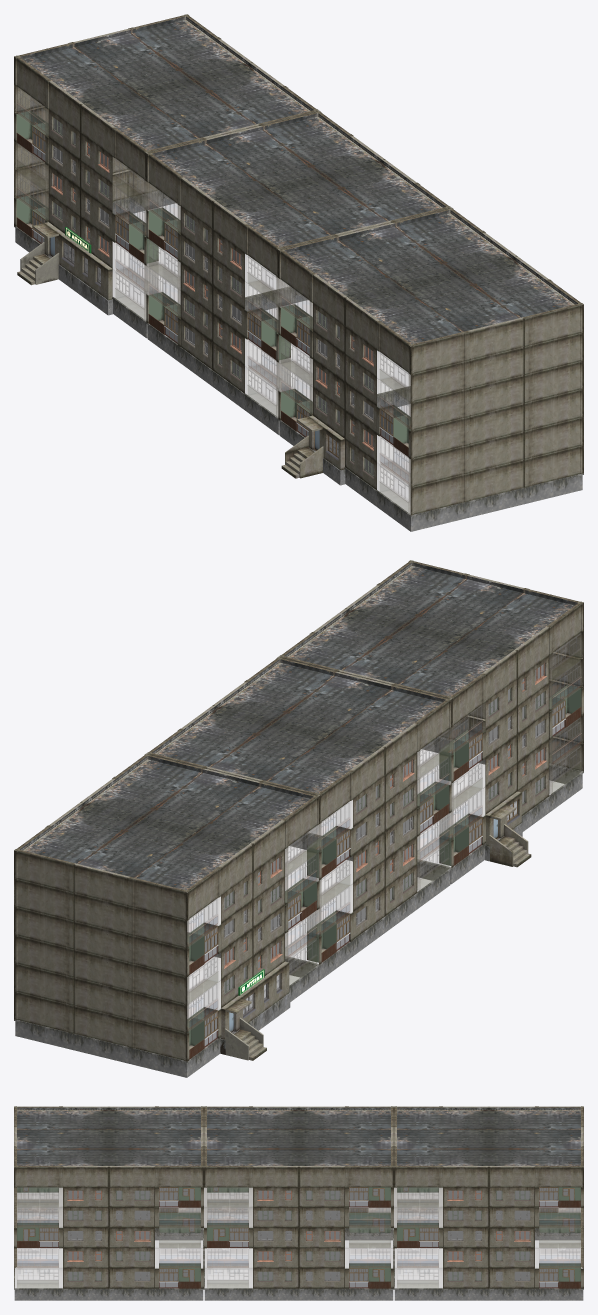
Rendered from res_long_9.glb.
3 renders of one model, top to bottom at view 1: azimuth 30°, elevation 25°; view 2: azimuth 150°, elevation 25°; view 3: azimuth 270°, elevation 25°, orthographic. The views are drawn at different scales.
Visible parts, largest first — view 1: res_long_9; view 2: res_long_9; view 3: res_long_9.
Boxes of the visible parts, bbox=[...] form: res_long_9: bbox=[14, 14, 583, 531]; res_long_9: bbox=[14, 560, 583, 1077]; res_long_9: bbox=[14, 1106, 583, 1300].
Bounding box in the file's own units: 31.08 × 27 × 104.
11 materials, 11 textured.
